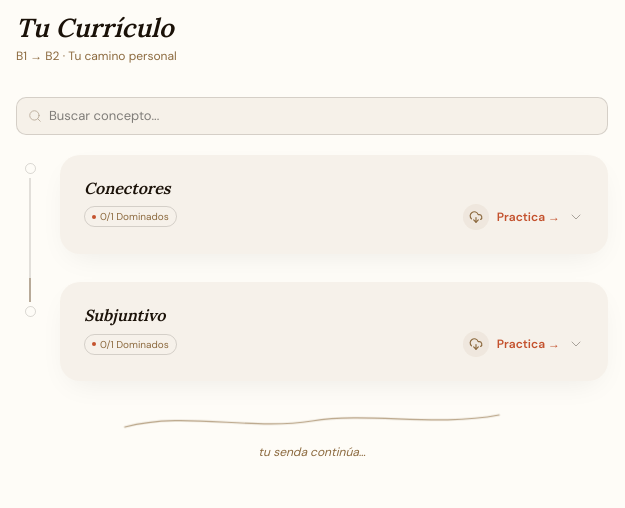
CurriculumClient › shows lock icon for locked concepts
// Click the second module (Subjuntivo, contains B2 concept)
Click the text "Subjuntivo".
click(125, 316)  # box [84,306,165,325]
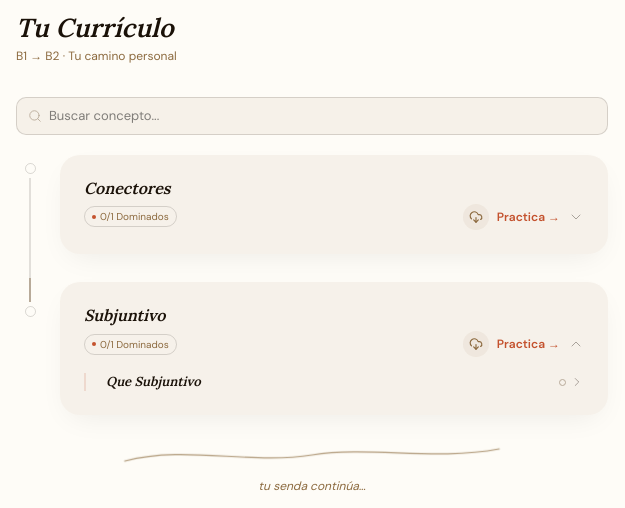
Check: the text "Que Subjuntivo" is shown, box [106,373,201,390]
